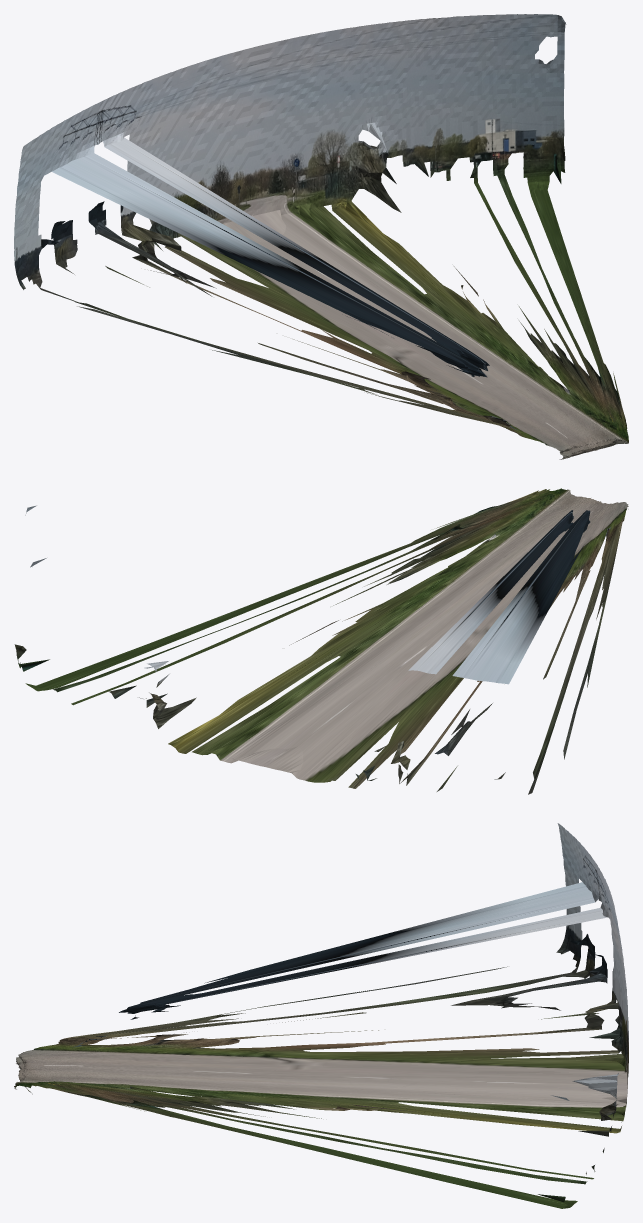
3 renders of one model, top to bottom at view 1: azimuth 30°, elevation 25°; view 2: azimuth 150°, elevation 25°; view 3: azimuth 270°, elevation 25°, orthographic. The views are drawn at different scales.
Parts seen in each view (by area): view 1: defaultobject; view 2: defaultobject; view 3: defaultobject.
Boxes of the visible parts, x1,y1,x2,y2 form: defaultobject: (14, 14, 628, 459); defaultobject: (14, 488, 628, 794); defaultobject: (14, 823, 628, 1208).
Bounding box in the file's own units: 41.16 × 13.25 × 44.44.
1 material, 1 textured.
